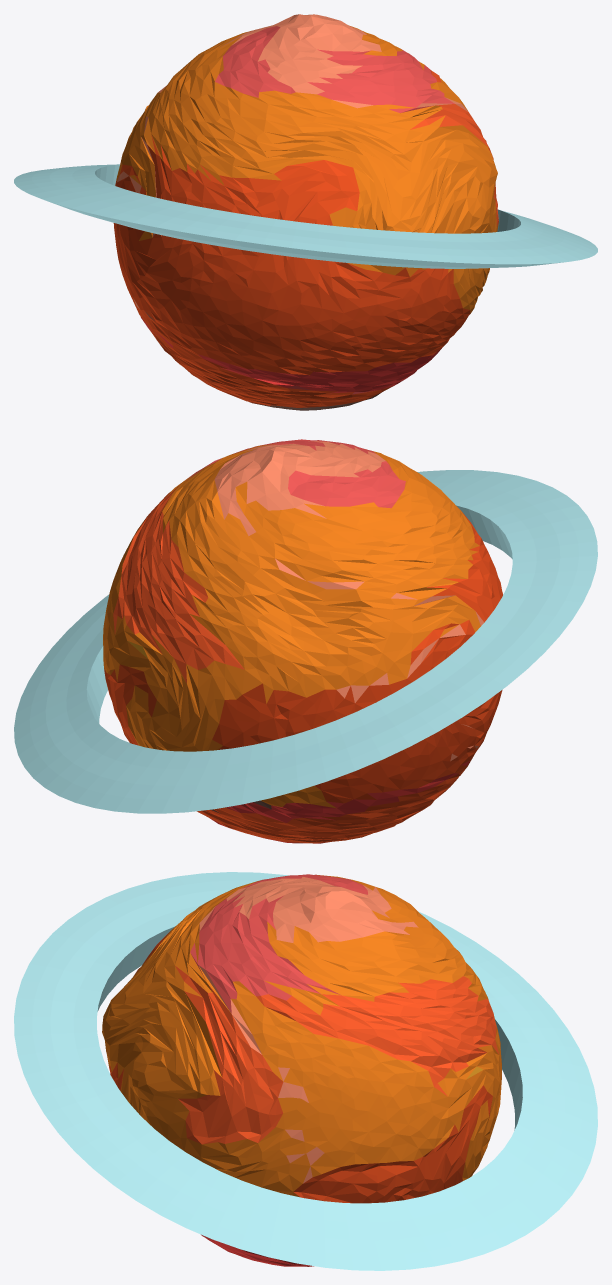
Rendered from Planet_30.glb.
3 views of the same model, one above another, from view 1: azimuth 30°, elevation 25°; view 2: azimuth 150°, elevation 25°; view 3: azimuth 270°, elevation 25° (orthographic). The views are drawn at different scales.
Visible parts, largest first — view 1: Planet_30; view 2: Planet_30; view 3: Planet_30.
Boxes of the visible parts, x1=… form: Planet_30: x1=14, y1=14, x2=597, y2=410; Planet_30: x1=14, y1=439, x2=597, y2=843; Planet_30: x1=14, y1=872, x2=597, y2=1270.
Bounding box in the file's own units: 29.44 × 20.98 × 29.78.
1 material, 1 textured.
